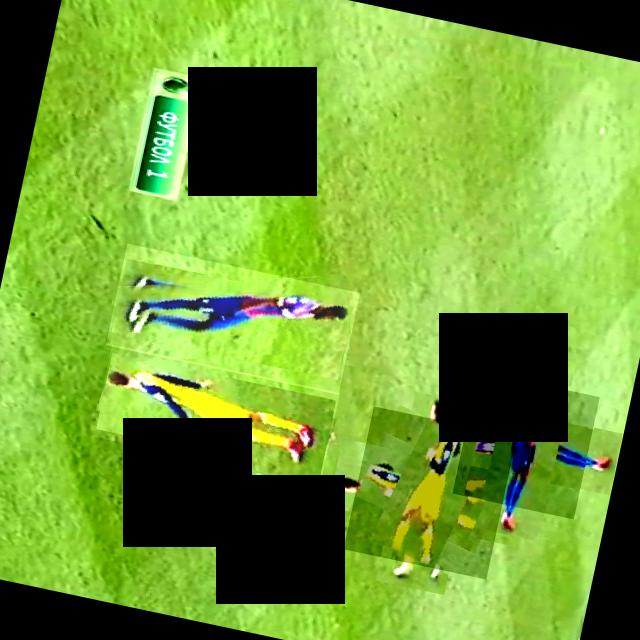soccer-player: (106, 242, 360, 394), (93, 344, 340, 484), (342, 405, 516, 578), (452, 370, 599, 518)
